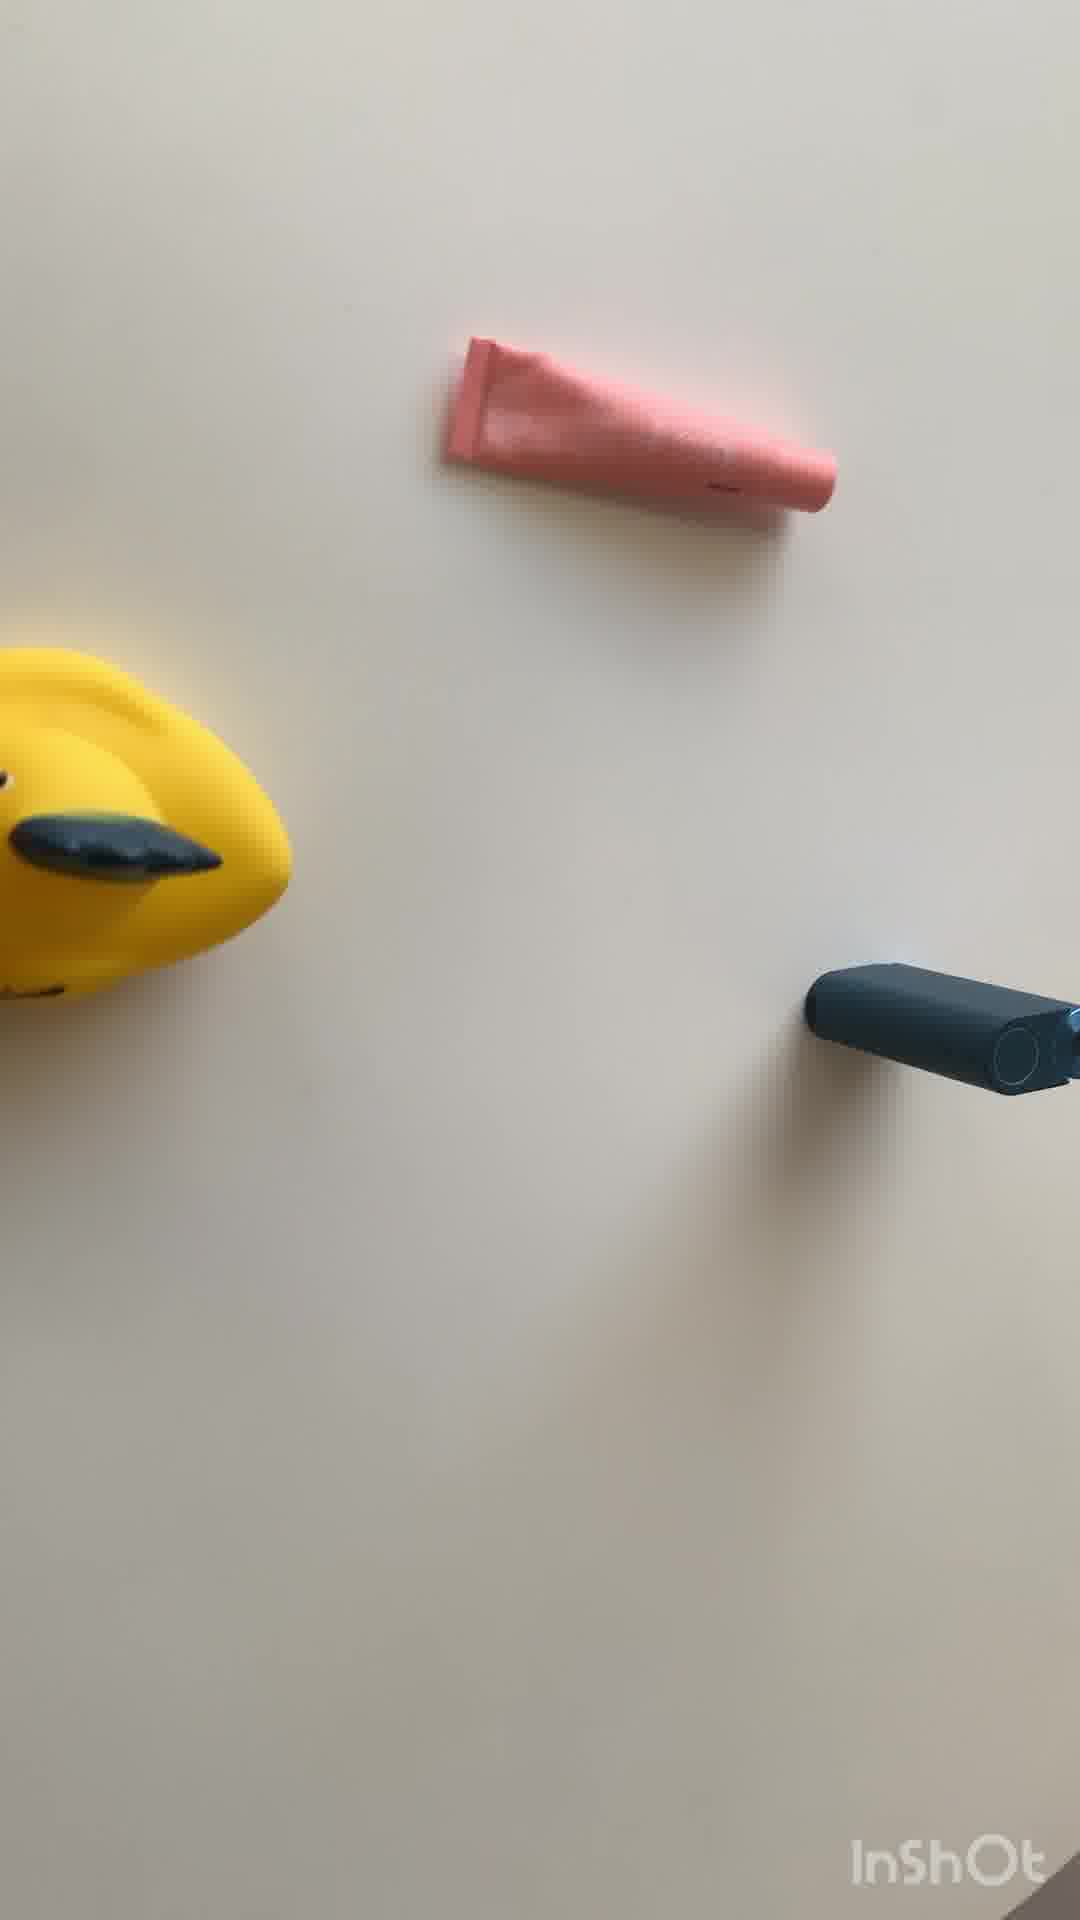duck: (1, 626, 309, 1013)
glo: (803, 963, 1080, 1095)
lip balm: (436, 334, 839, 518)
